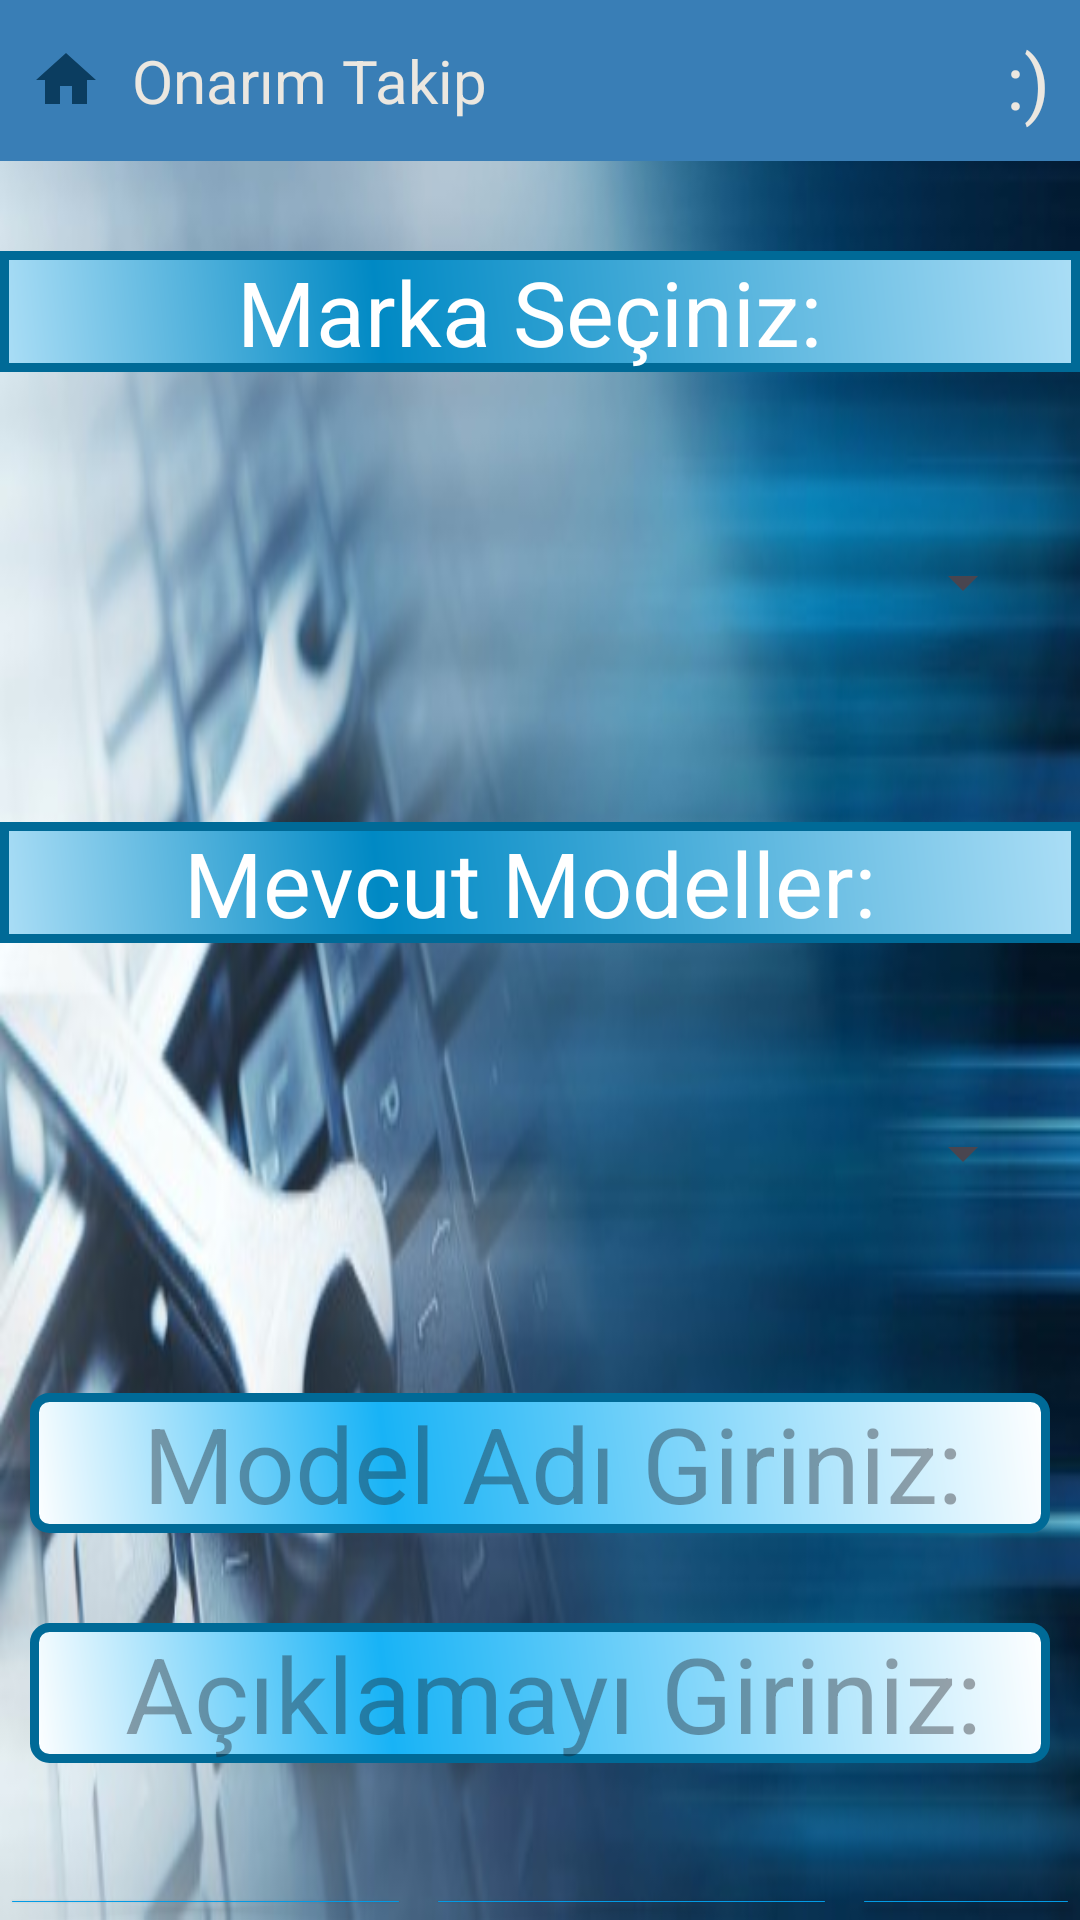

Point at icon controls on the screen. Image size 1080×1920, points as [x,y].
home: [66,78]
